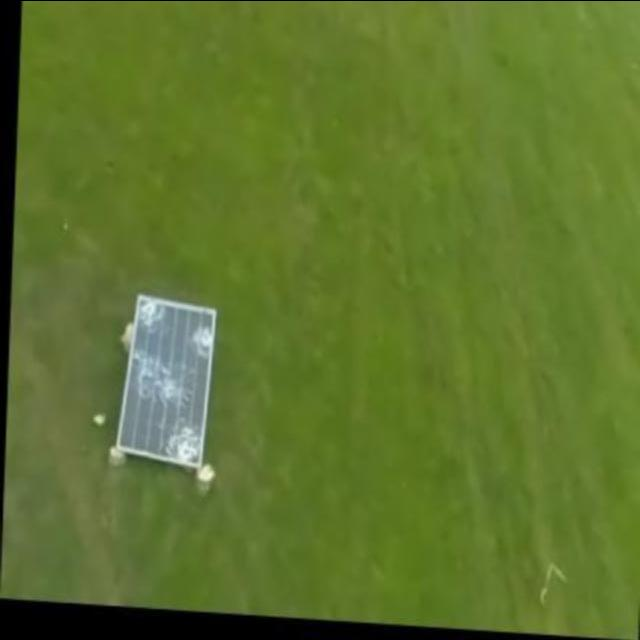cracked: (116, 292, 218, 480)
